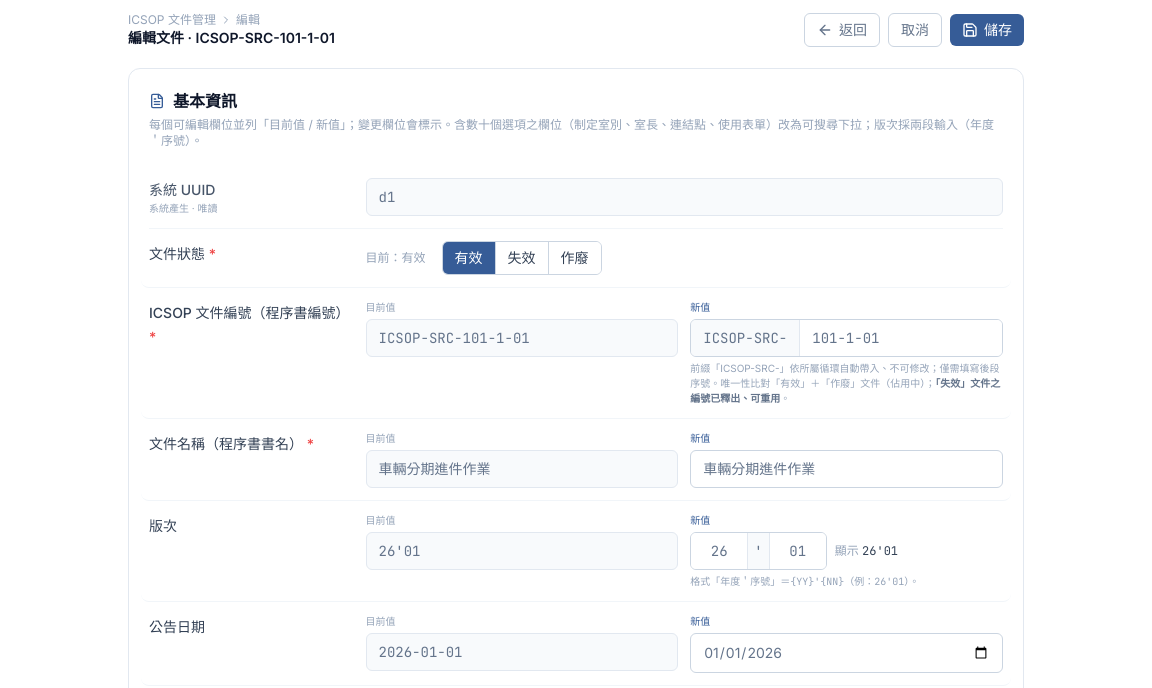
Scenario: DocumentEditPage — F011 編輯與版本對照（移植 prototype 15） › 修改欄位顯示「已變更」與變更計數；取消還原原值
The image size is (1152, 688).
Clear the field labelled "文件名稱（程序書書名） *" at (847, 469), box left=690, top=450, right=1003, bottom=488
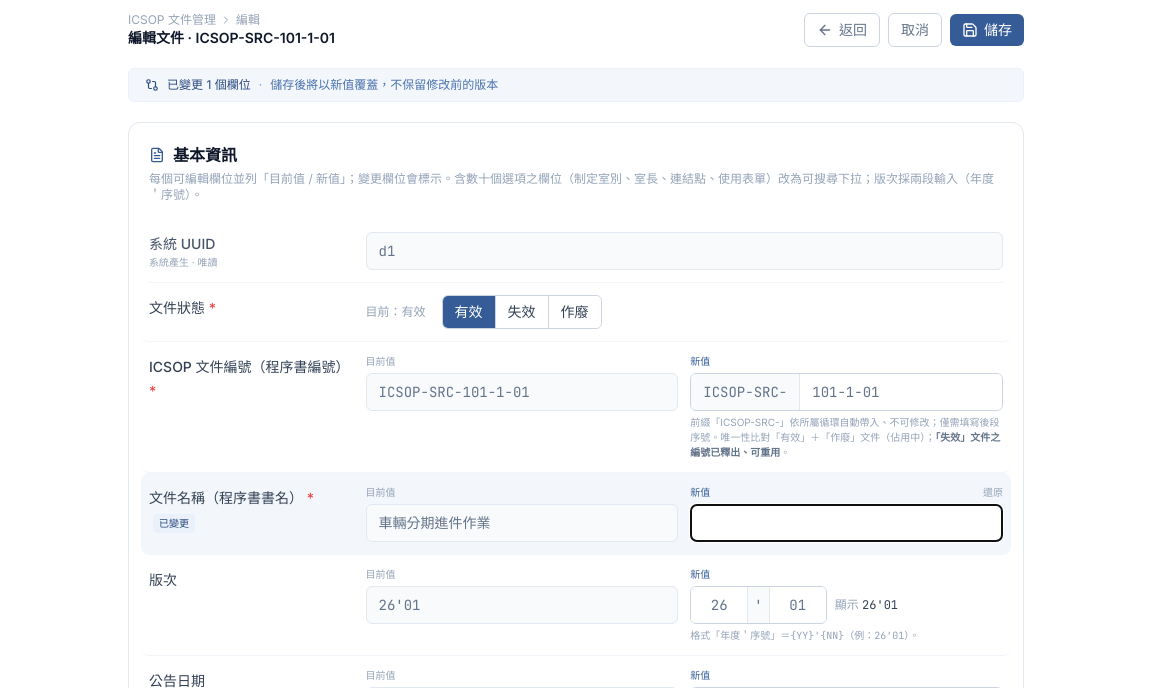
Type "車輛分期進件作業（修訂）" into the field labelled "文件名稱（程序書書名） *" at (847, 523), box left=690, top=504, right=1003, bottom=542
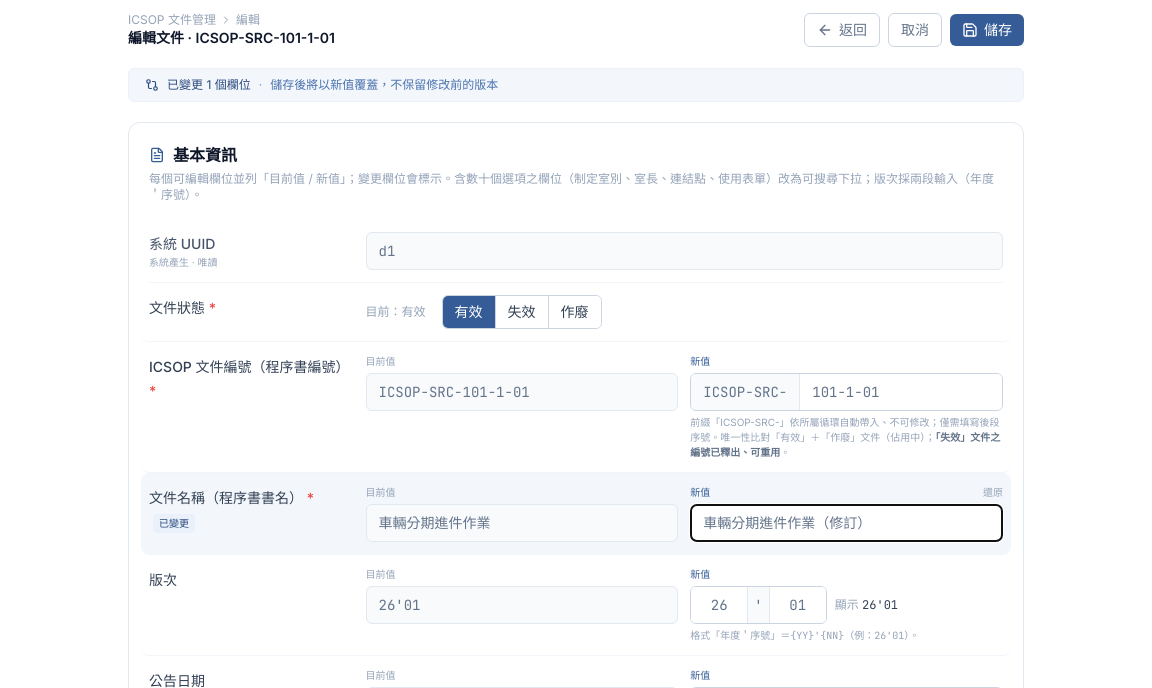
Now the text "已變更 1 個欄位" is shown, box left=167, top=77, right=251, bottom=93
Click the button "取消" at (915, 30), box left=888, top=13, right=942, bottom=47
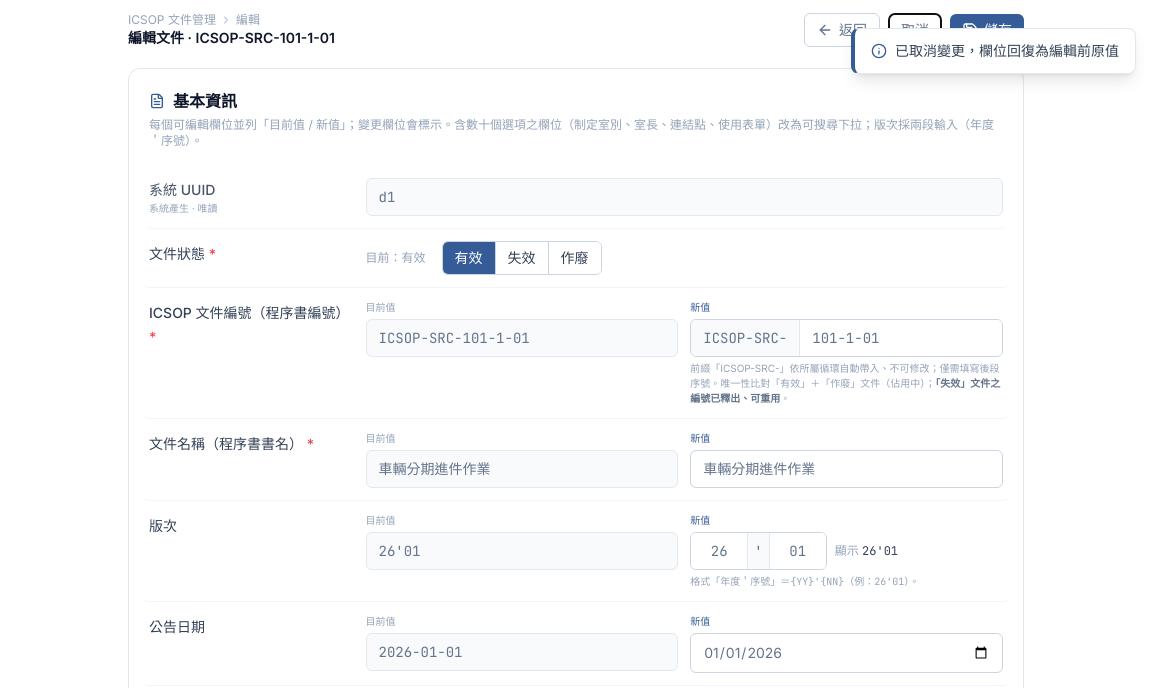
Now the field labelled "文件名稱（程序書書名） *" holds "車輛分期進件作業", box left=690, top=450, right=1003, bottom=488
Now the text "已變更 1 個欄位" is gone
